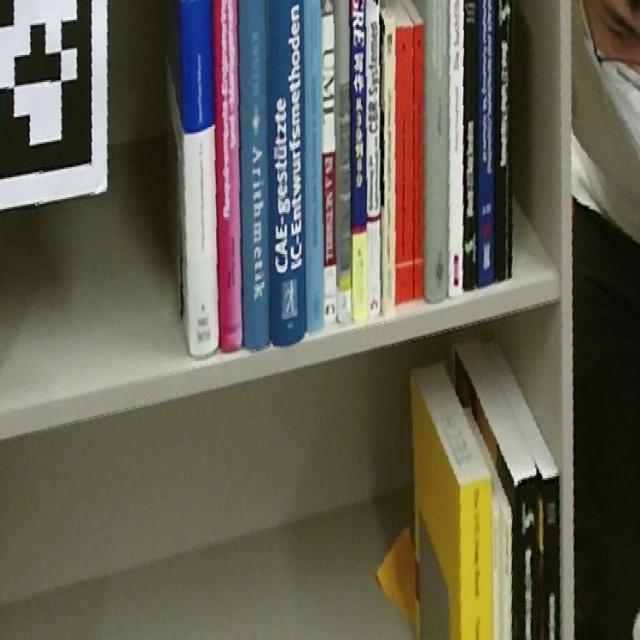Book Spine: (180, 0, 220, 357), (267, 0, 307, 347), (212, 0, 243, 351), (239, 0, 270, 349), (426, 0, 449, 304), (304, 1, 324, 332), (460, 476, 494, 640), (350, 0, 367, 322), (395, 27, 414, 304), (336, 0, 352, 326), (321, 0, 336, 329), (478, 0, 495, 287), (495, 0, 512, 282), (367, 0, 381, 319), (463, 0, 478, 291), (514, 474, 540, 640), (449, 0, 463, 298), (384, 20, 396, 313), (543, 474, 561, 640), (414, 25, 424, 299), (492, 512, 501, 640), (504, 511, 512, 640)
